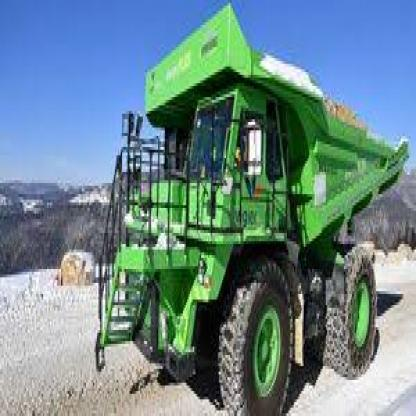dump_truck: (80, 0, 412, 413)
